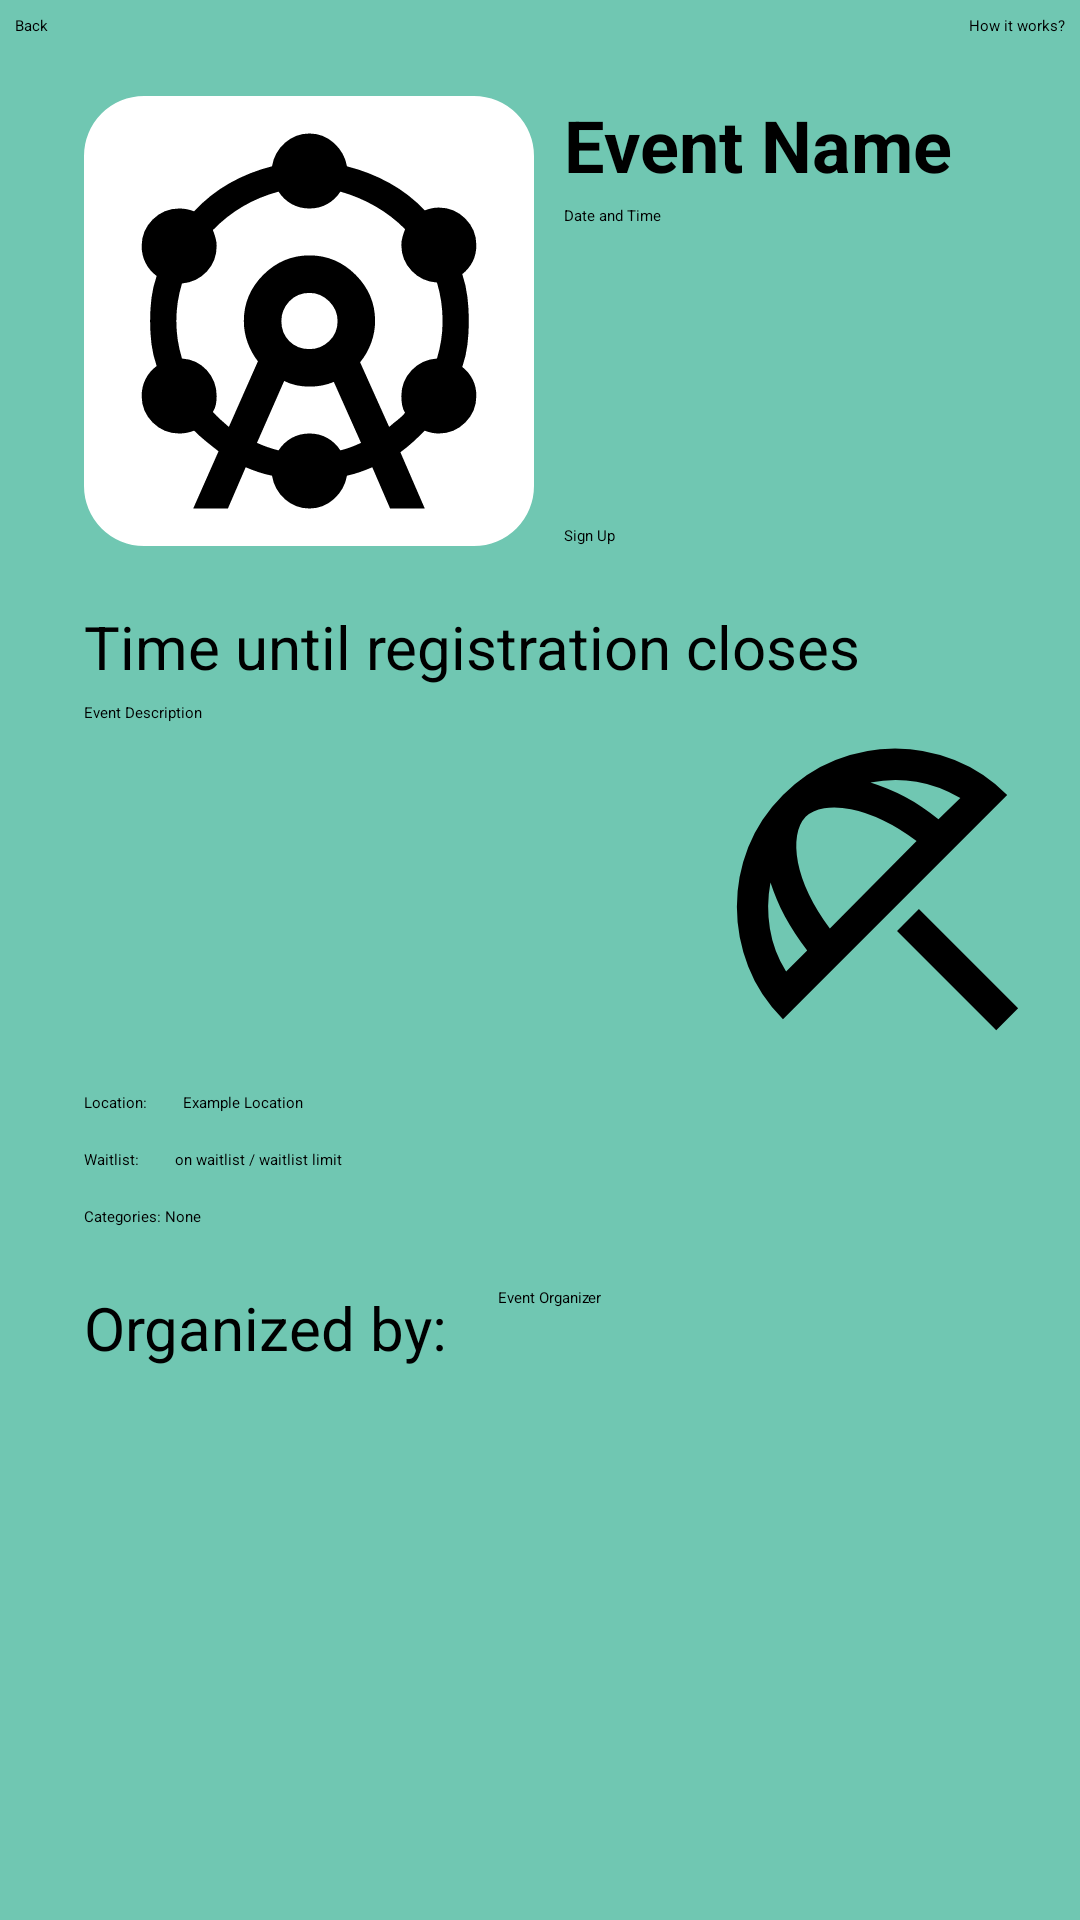

Where to tap for icons on this 1080×1920 app screen, as [x,y]:
beach access: [877,889]
